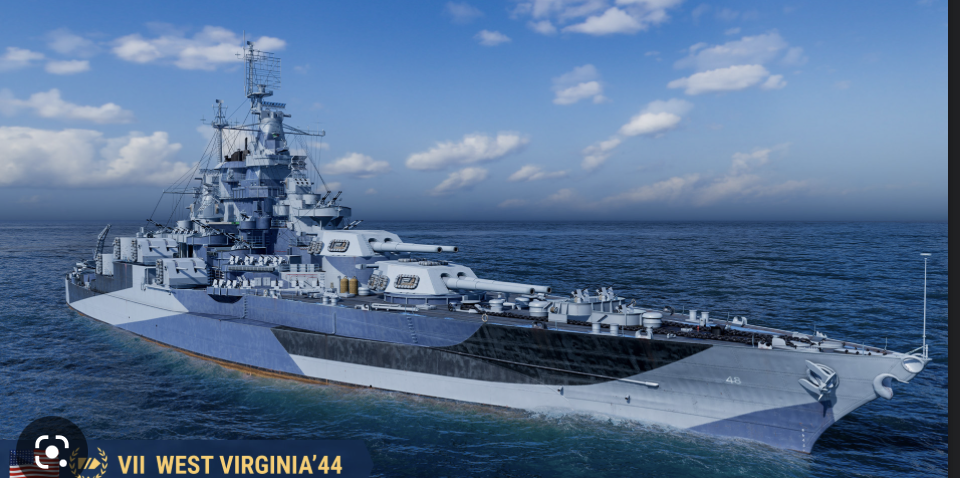ship: (48, 34, 926, 464)
